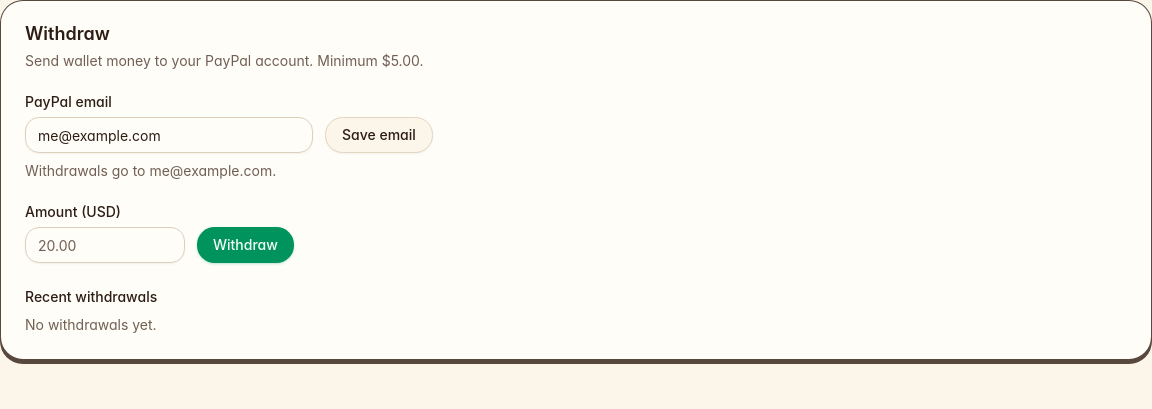
it: WithdrawCard › maps api errors to friendly messages
Step 1. Type "20" into the field labelled "Amount (USD)" → coordinates (105, 245), box [25, 227, 185, 263]
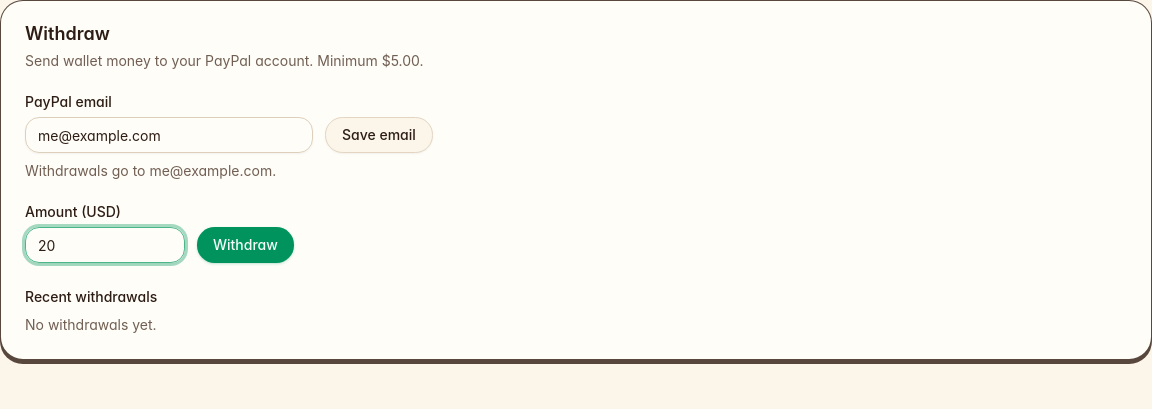
Step 2. Click the button "Withdraw" → coordinates (245, 245), box [197, 227, 294, 263]
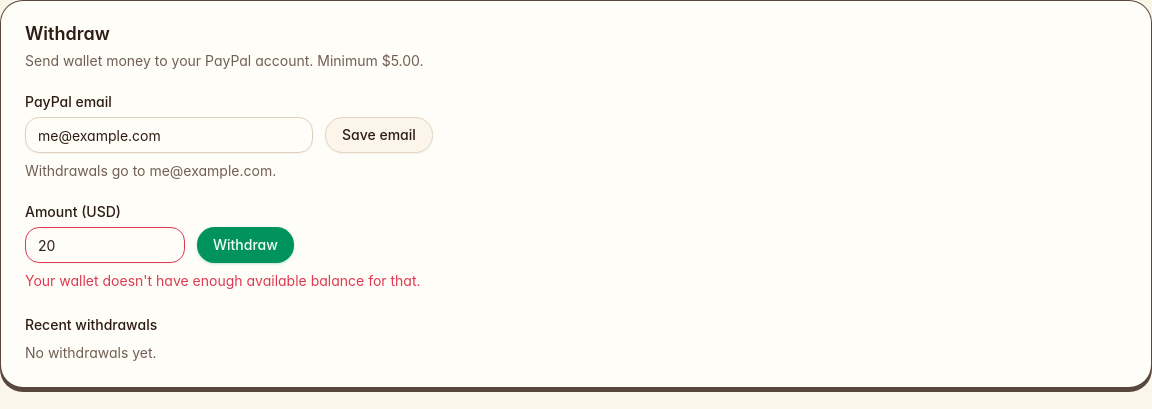
Expected: the text "Your wallet doesn't have enough available balance for that." is shown, [25, 272, 421, 289]
